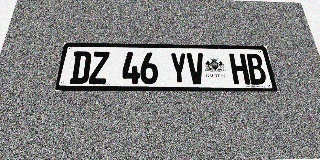4: (122, 52, 140, 84)
6: (140, 52, 158, 84)
B: (245, 54, 268, 84)
D: (69, 51, 92, 84)
H: (229, 53, 251, 84)
V: (186, 53, 206, 84)
Y: (170, 53, 188, 84)
Z: (89, 51, 110, 84)
